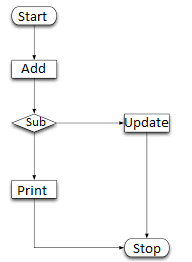arrow: (33, 198, 125, 250), (144, 132, 150, 239), (30, 131, 39, 180), (53, 120, 126, 126), (31, 78, 39, 114), (31, 25, 38, 61)
decision: (10, 113, 58, 135)
process: (9, 59, 60, 82), (122, 112, 172, 135), (8, 179, 60, 199)
terminator: (8, 5, 59, 29), (123, 237, 171, 259)
text: (124, 117, 171, 131), (132, 242, 161, 257), (16, 184, 50, 196), (17, 9, 48, 22), (19, 61, 47, 74), (24, 116, 48, 128)
